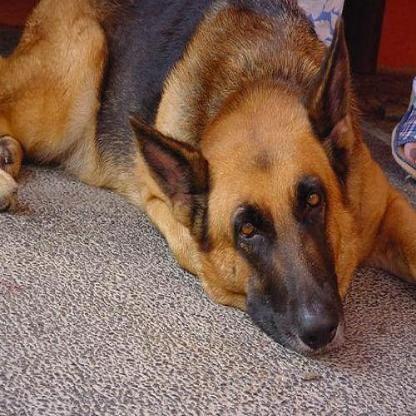German_shepherd: (0, 0, 414, 355)
